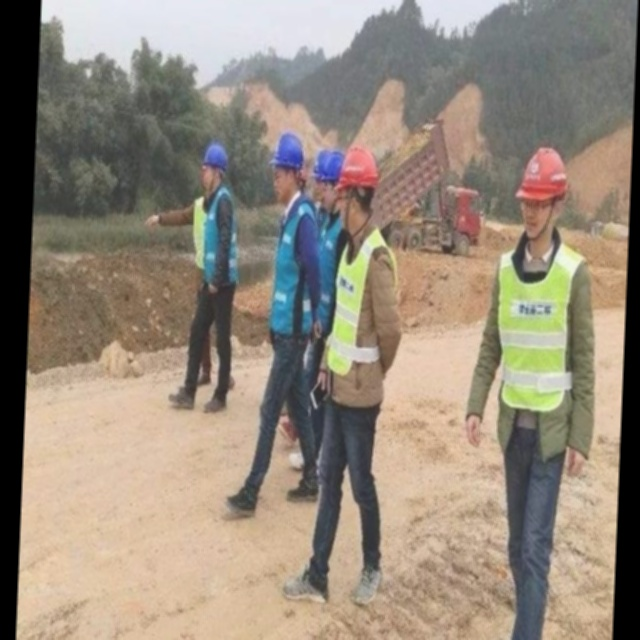Con_Chaleco: (489, 238, 589, 425), (323, 232, 404, 398)
